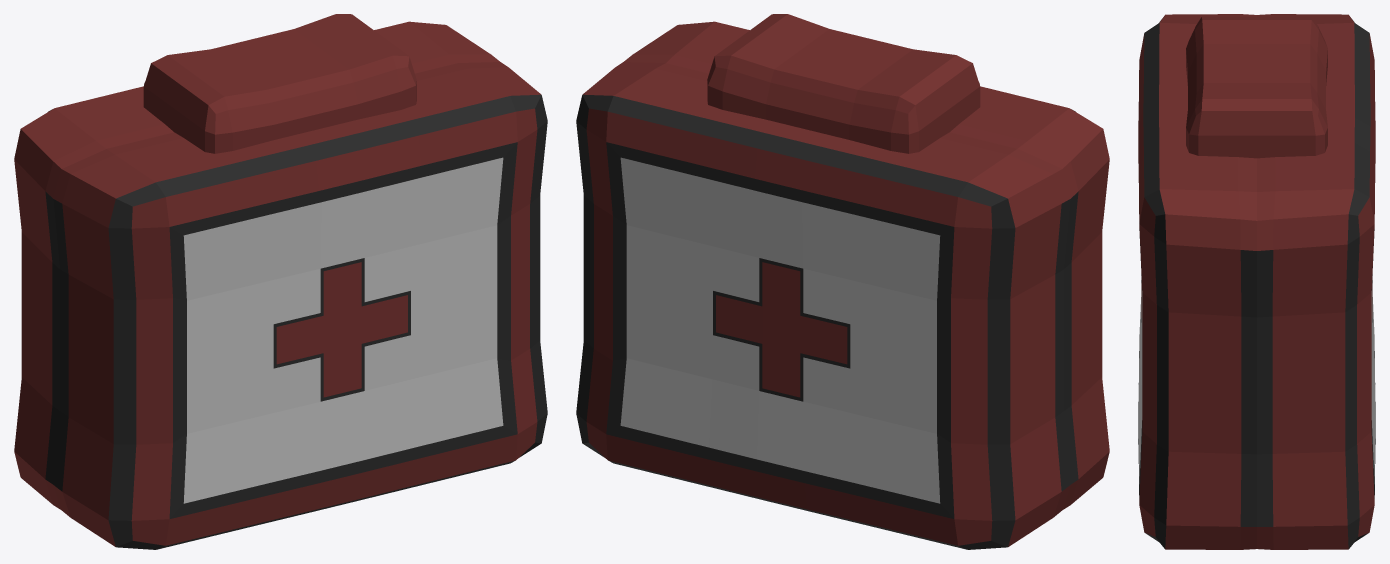
File: First Aid Kit-wP00rePSRD.glb
3 views of the same model, side by side, from view 1: azimuth 30°, elevation 25°; view 2: azimuth 150°, elevation 25°; view 3: azimuth 270°, elevation 25° (orthographic). The views are drawn at different scales.
Parts seen in each view (by area): view 1: First Aid Kit-wP00rePSRD; view 2: First Aid Kit-wP00rePSRD; view 3: First Aid Kit-wP00rePSRD.
Part boxes in pixels (<box>): First Aid Kit-wP00rePSRD: <box>14,14,547,549</box>; First Aid Kit-wP00rePSRD: <box>576,14,1109,549</box>; First Aid Kit-wP00rePSRD: <box>1138,14,1375,549</box>.
Bounding box in the file's own units: 1.56 × 1.36 × 0.7333.
